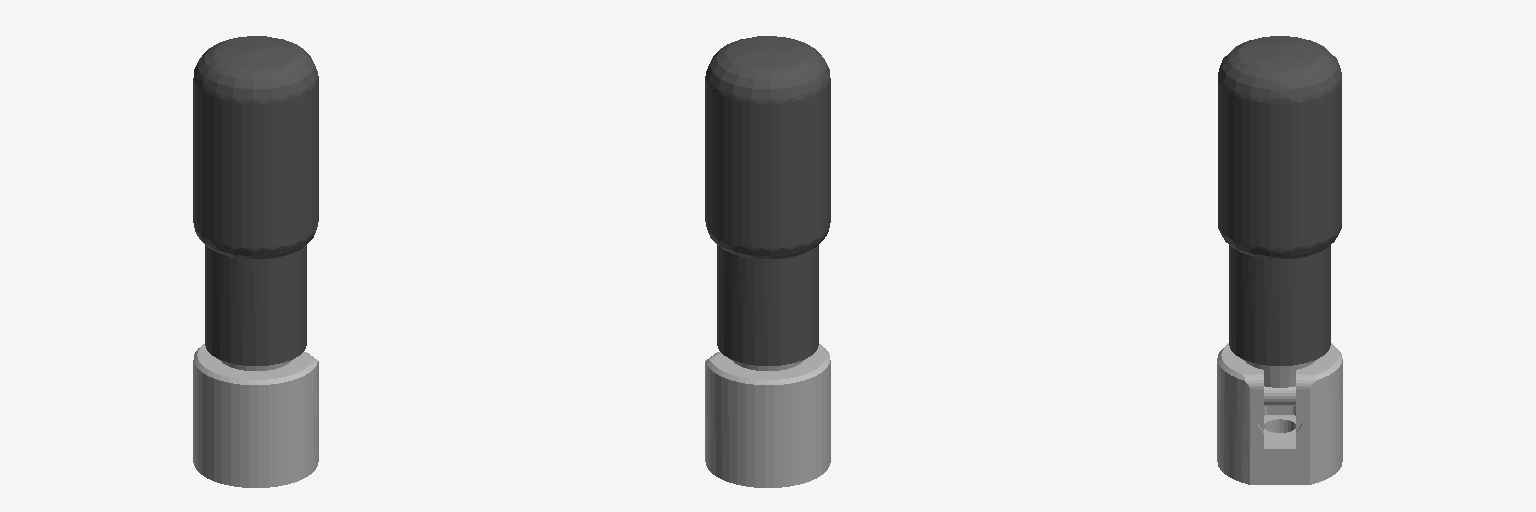
The picture shows the model from 3 angles: view 1: azimuth 30°, elevation 25°; view 2: azimuth 150°, elevation 25°; view 3: azimuth 270°, elevation 25°; orthographic projection.
Parts seen in each view (by area): view 1: gn_798_5-kt-16_2, gn_798_5-kt-16_1; view 2: gn_798_5-kt-16_2, gn_798_5-kt-16_1; view 3: gn_798_5-kt-16_2, gn_798_5-kt-16_1.
Boxes of the visible parts, box(x1,y1,x2,y2) form: gn_798_5-kt-16_2: box(193, 36, 318, 370); gn_798_5-kt-16_1: box(193, 344, 318, 487); gn_798_5-kt-16_2: box(705, 36, 830, 370); gn_798_5-kt-16_1: box(705, 344, 830, 487); gn_798_5-kt-16_2: box(1218, 36, 1341, 387); gn_798_5-kt-16_1: box(1217, 343, 1342, 484).
Bounding box in the file's own units: 16 × 58 × 16.